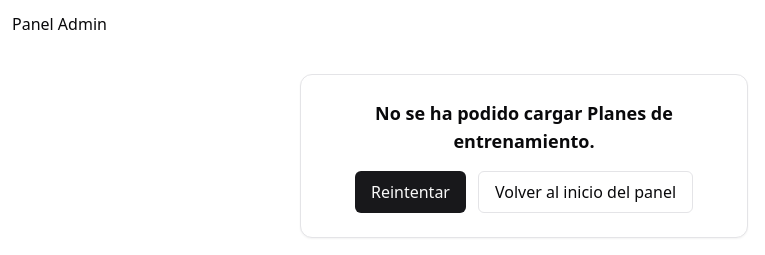
Test: Planes de entrenamiento error boundary › returns to the panel home without unmounting the admin shell
This screenshot has width=765, height=255.
Click the button "Volver al inicio del panel": {"x": 586, "y": 192} [478,171,693,213]
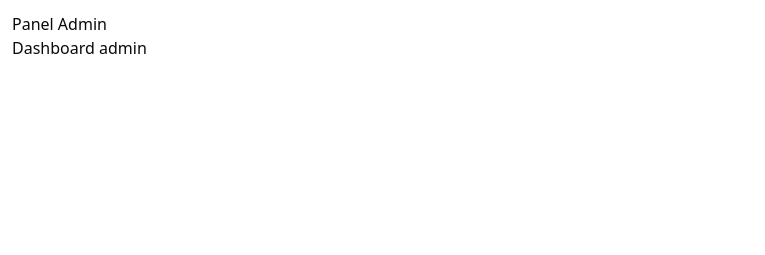
Expected: the heading "Panel Admin" is shown, [12,13,107,35]
Expected: the heading "Dashboard admin" is shown, [12,37,147,59]
